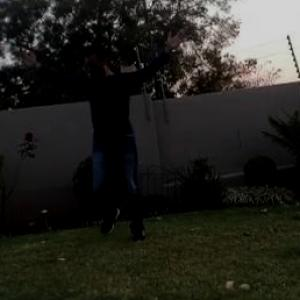takeoff: (15, 32, 187, 254)
